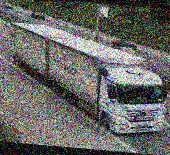truck: (2, 21, 170, 137)
